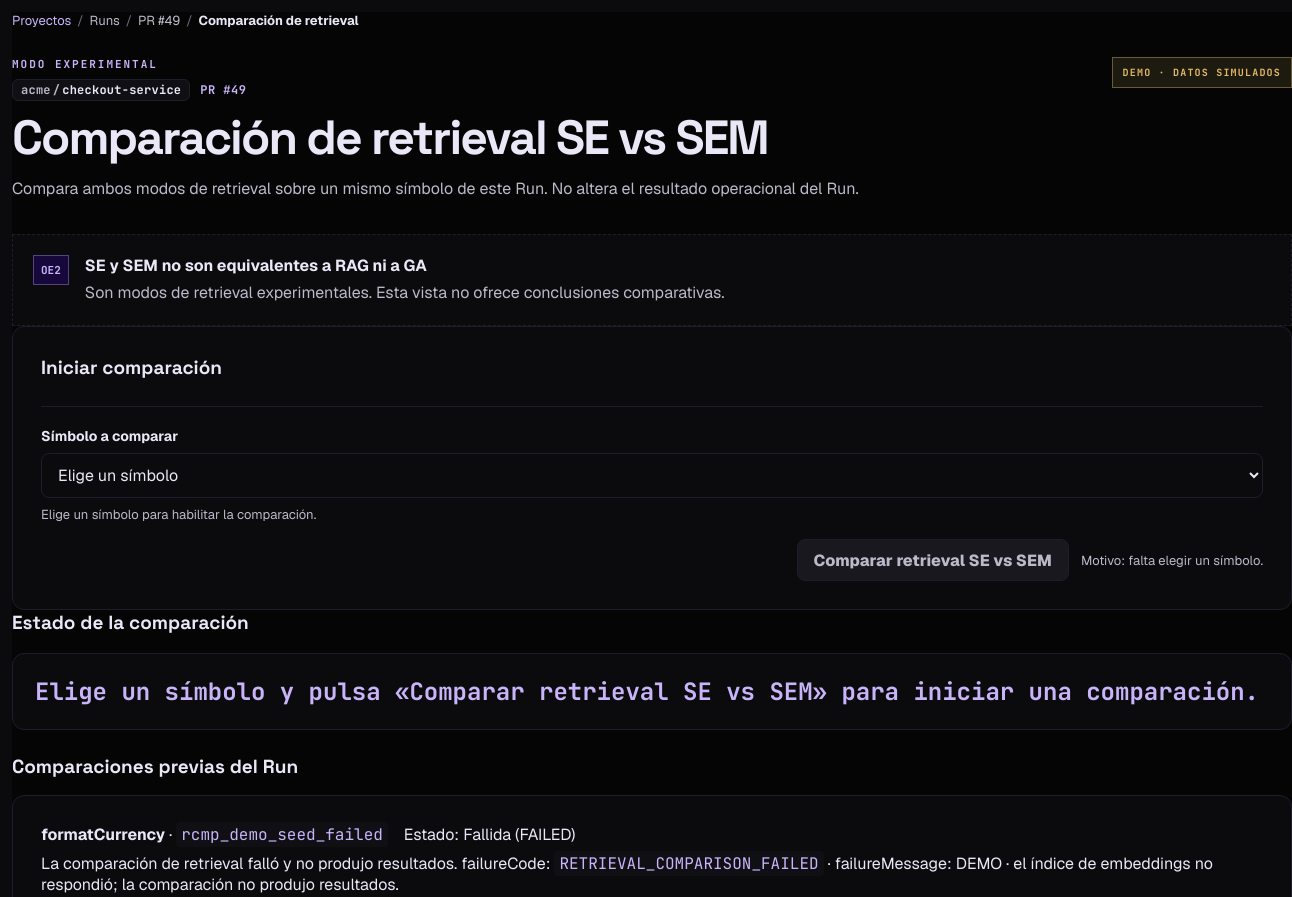
Test: RetrievalComparisonPage (WI-CONSOLE-014, Corte B) › creación con 422 UNSUPPORTED_PROJECT muestra el mensaje propio y no crea comparación
Select "formatCurrency · FUNCTION · src/shared/money.ts" in the dropdown labelled "Símbolo a comparar" at (652, 476), box [41,453,1263,498]
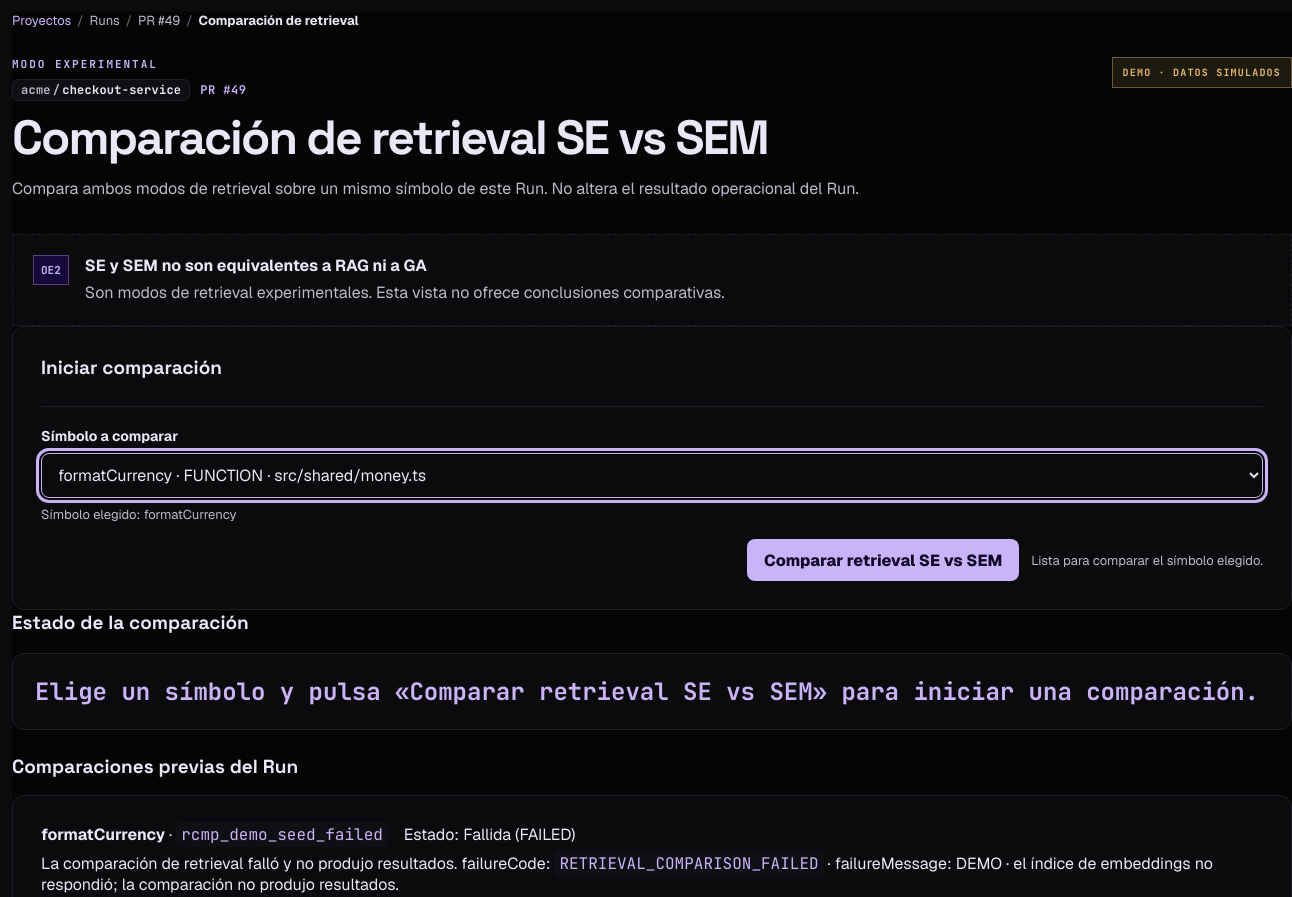
Click the button "Comparar retrieval SE vs SEM" at (883, 560), box [747,539,1019,581]
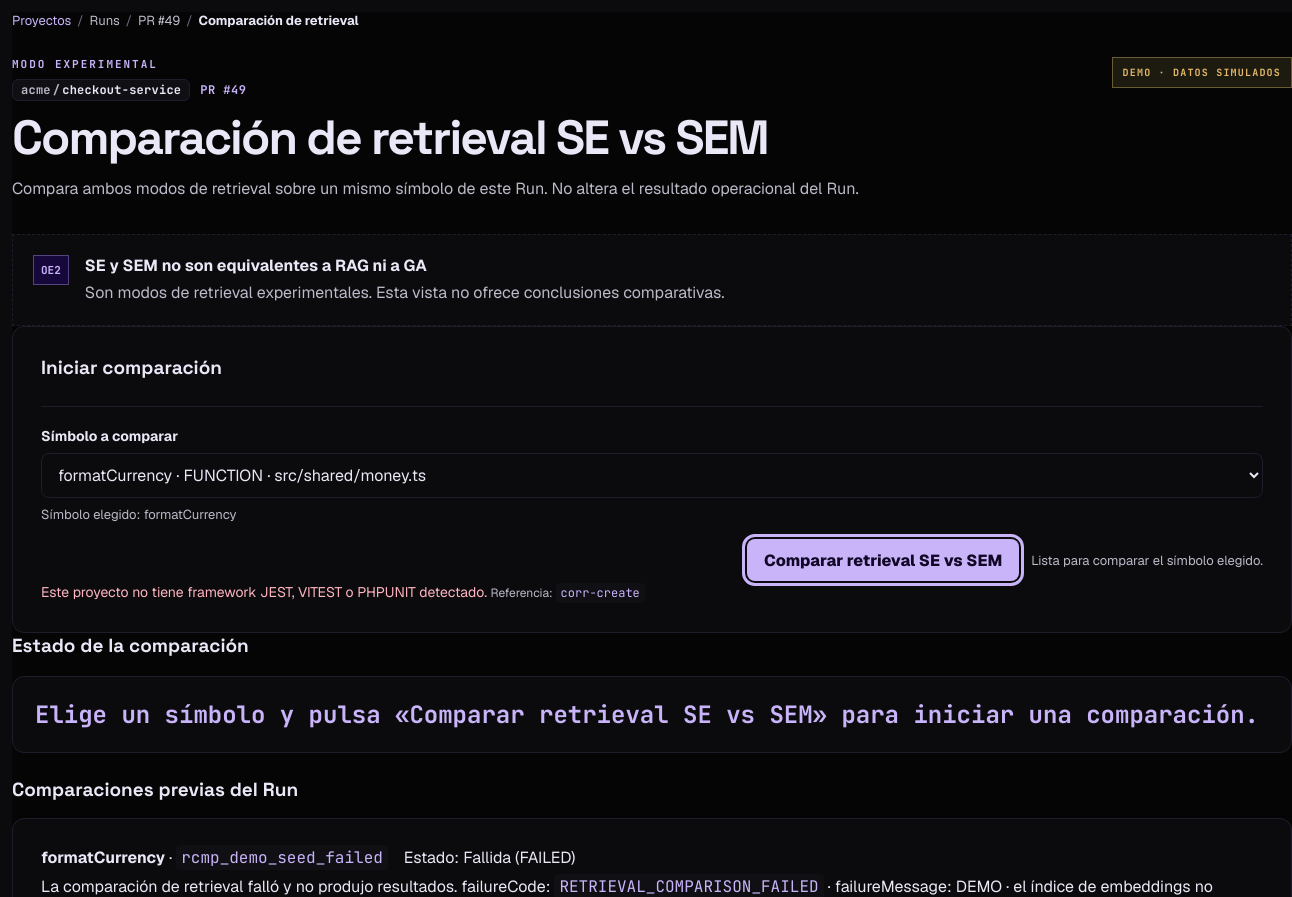
expect the text "Este proyecto no tiene framework JEST, VITEST o PHPUNIT detectado." is shown: met, box [41,583,487,601]
